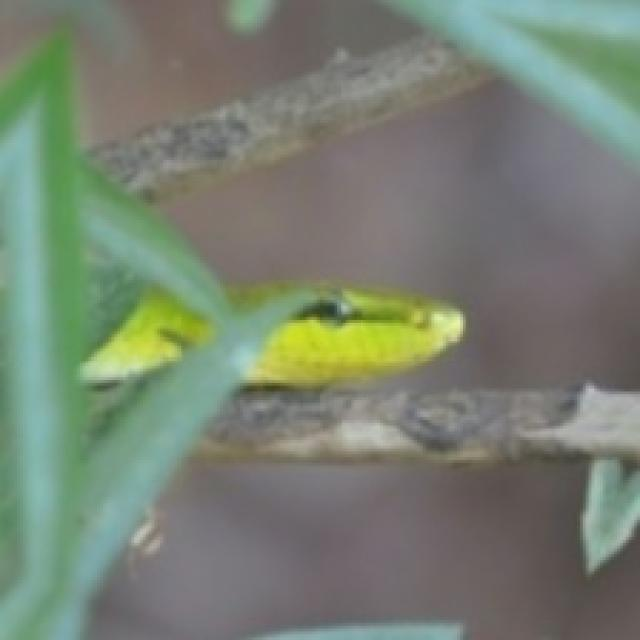red-tailed green ratsnake: (243, 286, 463, 386), (80, 289, 211, 383)
